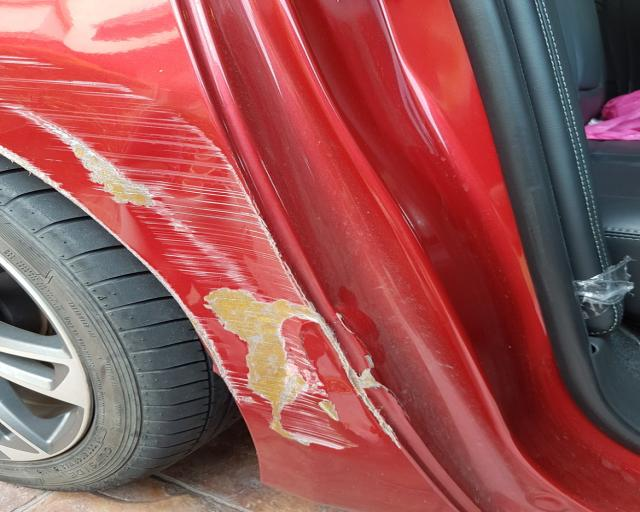scratch: (0, 48, 368, 449)
